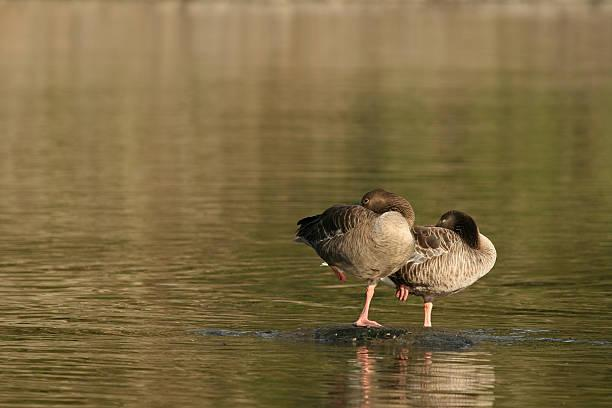Canadian-Goose: (294, 188, 415, 334), (410, 205, 500, 331)
